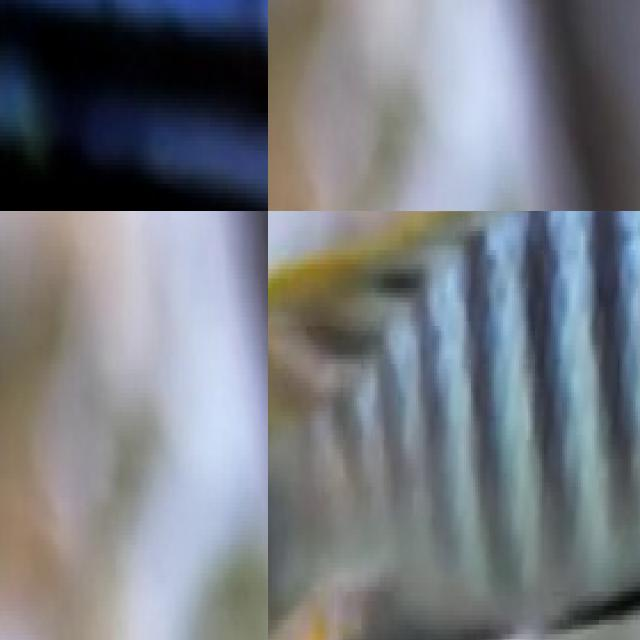fish: (268, 211, 640, 640), (0, 0, 268, 211)
